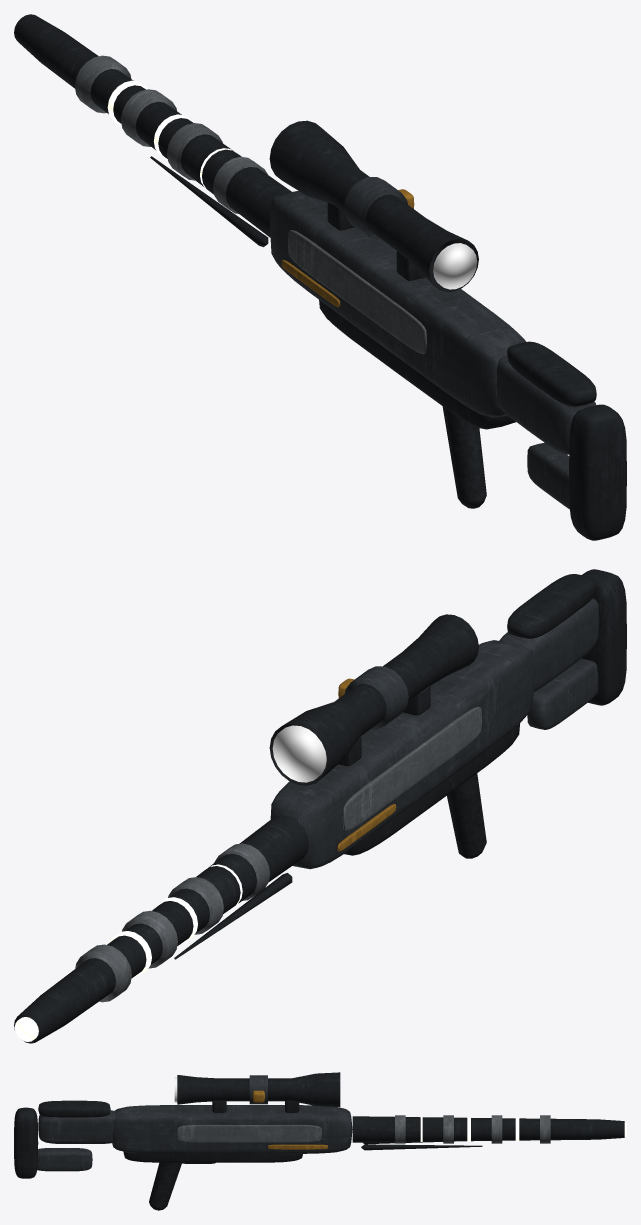
File: lr4_body.glb
The picture shows the model from 3 angles, top to bottom: view 1: azimuth 30°, elevation 25°; view 2: azimuth 150°, elevation 25°; view 3: azimuth 270°, elevation 25°; orthographic projection. The views are drawn at different scales.
Visible parts, largest first — view 1: lr4_body; view 2: lr4_body; view 3: lr4_body.
Part boxes in pixels (x1,y1,x2,y2): lr4_body: [14, 14, 626, 540]; lr4_body: [14, 569, 626, 1043]; lr4_body: [14, 1072, 626, 1210].
Size of the model in its own units: 0.0635 by 0.2484 by 1.01.
Materials: 3 (1 with a texture image).
